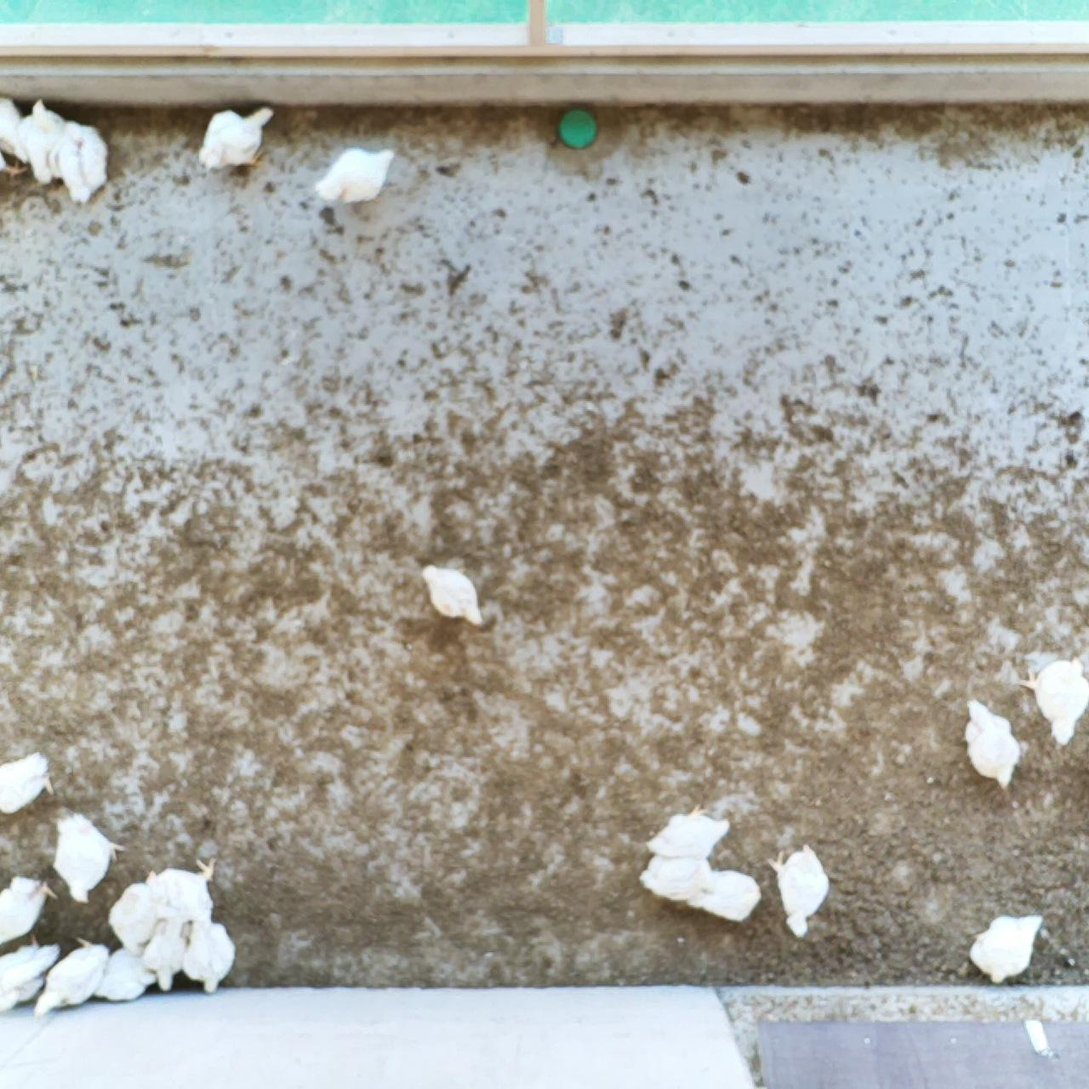chicken: (31, 931, 107, 1021), (51, 809, 121, 905), (763, 839, 830, 939), (960, 694, 1024, 791), (967, 911, 1044, 987), (1023, 659, 1089, 746), (199, 101, 275, 174), (311, 144, 399, 207), (143, 859, 219, 927), (418, 557, 485, 633), (55, 117, 109, 208), (643, 807, 734, 861), (18, 97, 71, 189), (0, 935, 59, 1017), (181, 912, 237, 993), (90, 940, 159, 1005), (0, 871, 56, 946), (109, 879, 163, 956), (638, 849, 713, 904), (691, 866, 761, 923), (142, 918, 193, 996), (0, 750, 52, 818), (0, 139, 31, 183), (0, 89, 20, 155)
